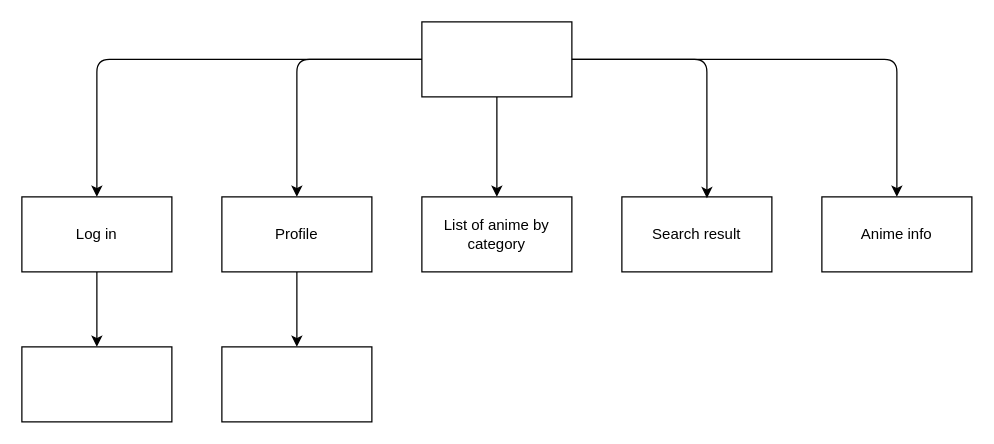
Some shapes in this 994 by 444 pixel diagram are drawn without their labels. Each missing label, with the centre of its shape:
Edit profile: [296,384]
Home (List of last anime): [496,59]
Registration: [96,384]
